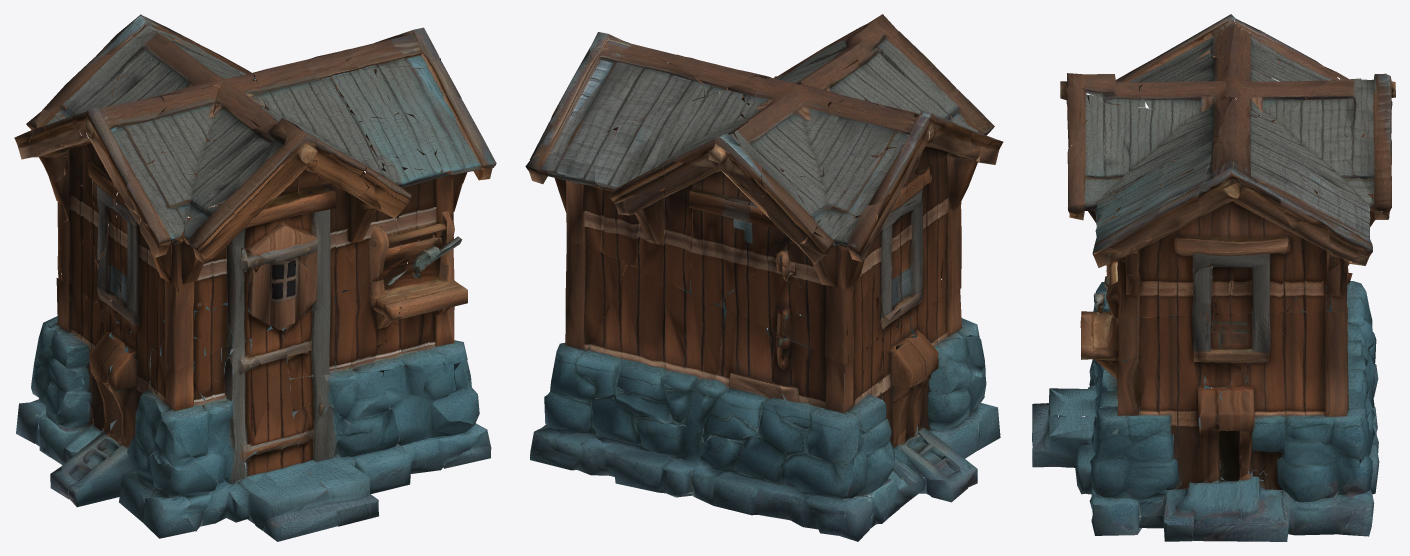
File: mesh_guardhouse_a.glb
3 renders of one model, left to right at view 1: azimuth 30°, elevation 25°; view 2: azimuth 150°, elevation 25°; view 3: azimuth 270°, elevation 25°, orthographic. The views are drawn at different scales.
Visible parts, largest first — view 1: mesh_guardhouse_a__mesh_guardhouse_a__Mesh_0; view 2: mesh_guardhouse_a__mesh_guardhouse_a__Mesh_0; view 3: mesh_guardhouse_a__mesh_guardhouse_a__Mesh_0.
Boxes of the visible parts, x1,y1,x2,y2 form: mesh_guardhouse_a__mesh_guardhouse_a__Mesh_0: (14,14,496,541); mesh_guardhouse_a__mesh_guardhouse_a__Mesh_0: (525,14,1003,541); mesh_guardhouse_a__mesh_guardhouse_a__Mesh_0: (1032,14,1395,541).
Size of the model in its own units: 16 by 15.47 by 13.76.
1 material, 1 textured.
